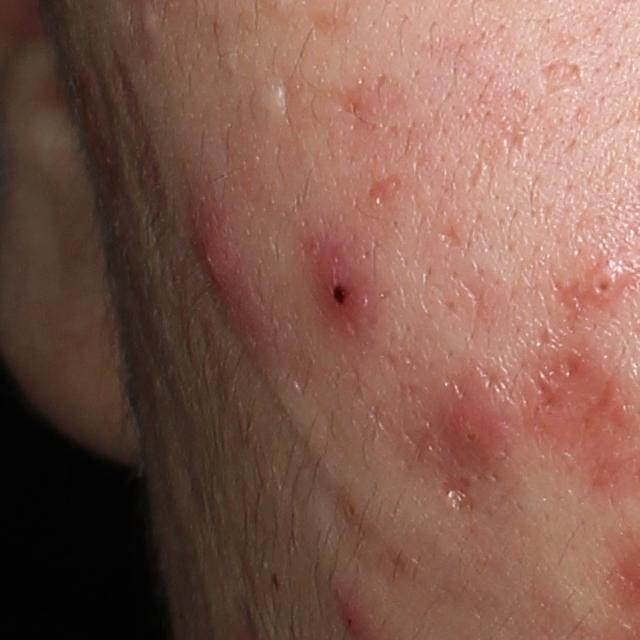atrophic_scar: (521, 357, 571, 421), (532, 56, 587, 100), (365, 171, 406, 209), (439, 223, 464, 252)
hypertrophic_scar: (247, 82, 291, 136)
papule: (193, 213, 262, 325), (304, 242, 377, 330), (437, 399, 514, 474), (582, 264, 623, 306)
